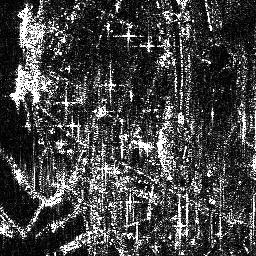ship: (18, 5, 33, 49), (12, 64, 26, 105)
